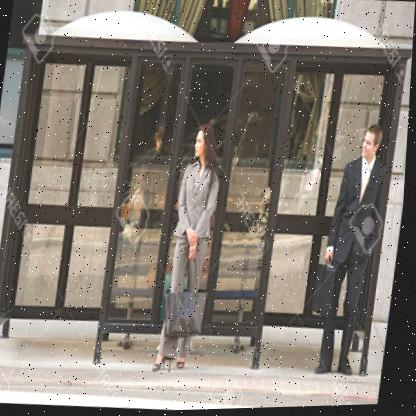person: (297, 112, 400, 383), (143, 106, 234, 378)
